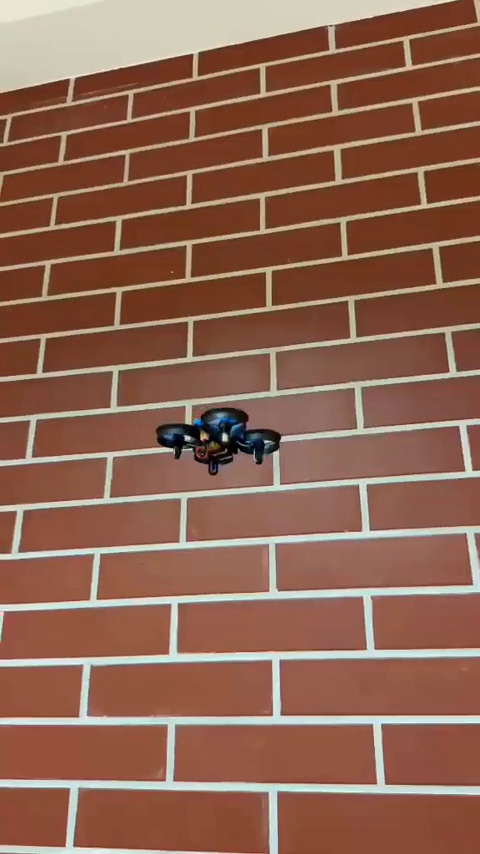drone: (157, 408, 285, 473)
